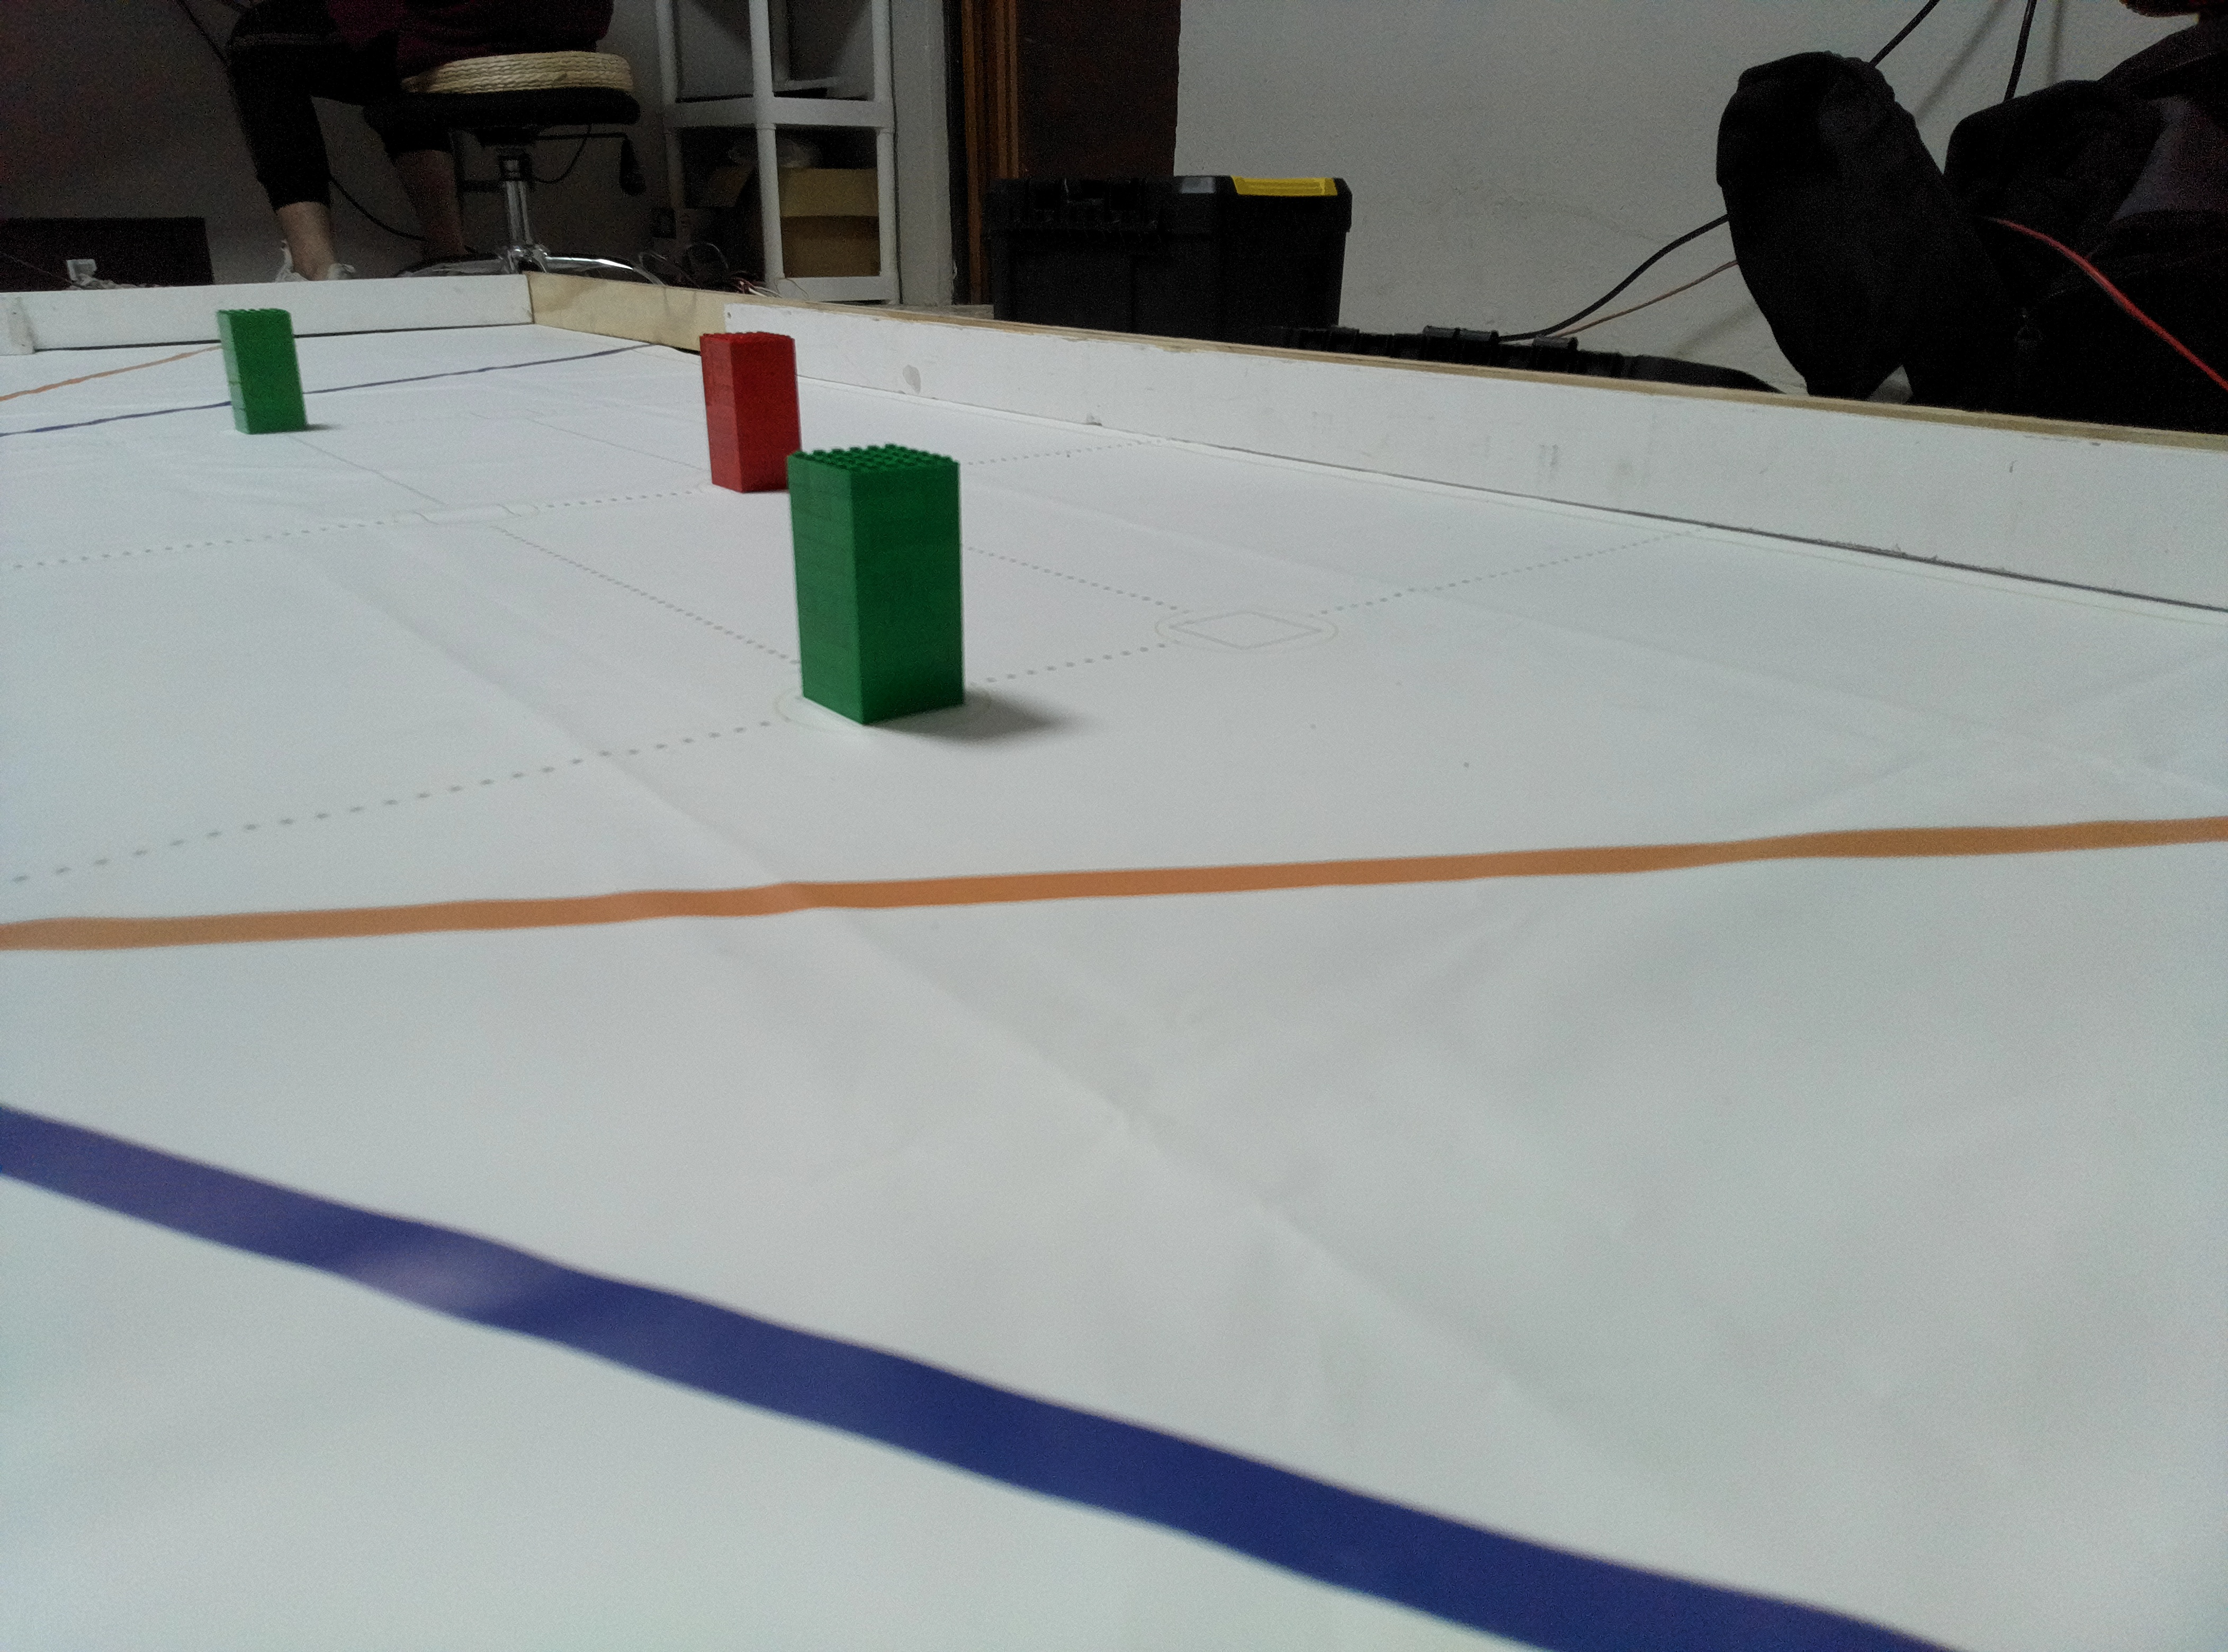greenbox: (786, 437, 970, 722), (213, 309, 309, 437)
redbox: (691, 323, 807, 493)
